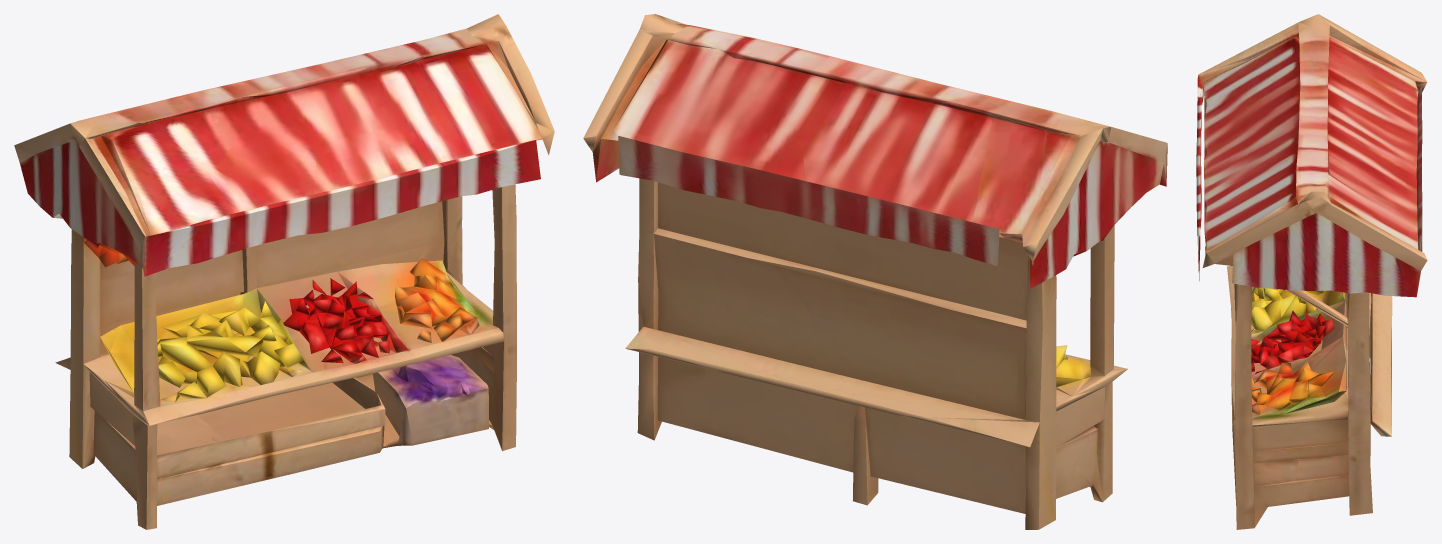
File: m2MarketStall.glb
3 views of the same model, side by side, from view 1: azimuth 30°, elevation 25°; view 2: azimuth 150°, elevation 25°; view 3: azimuth 270°, elevation 25° (orthographic). The views are drawn at different scales.
Parts seen in each view (by area): view 1: model; view 2: model; view 3: model.
Boxes of the visible parts, box(x1,y1,x2,y2) form: model: box(14, 14, 554, 529); model: box(583, 14, 1167, 529); model: box(1196, 14, 1427, 529).
Size of the model in its own units: 1.89 by 1.64 by 0.9911.
1 material, 1 textured.
